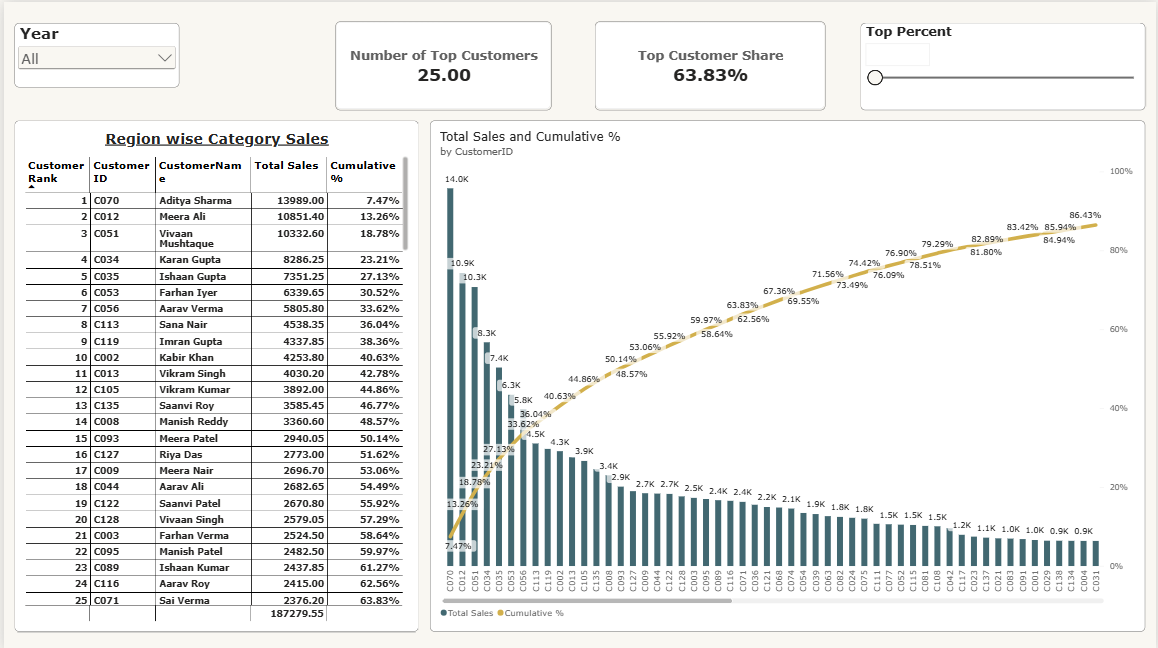

The page's visual inventory and layout, read from the dashboard file:
{"tool":"powerbi","page":{"name":"TOP 20% CUSTOMERS (Pareto Analysis)","canvas":[1920,1080],"ordinal":5},"visuals":[{"type":"slicer","fields":{"Values":["Date Table.Year"]},"box":[16.7,35.8,274.4,107.4],"z":0},{"type":"slicer","fields":{"Values":["Top Percent.Top Percent"]},"box":[1426.8,35.8,474.8,145.5],"z":1000},{"type":"cardVisual","fields":{"Data":["Measure Pareto.Top Customer Share"]},"box":[985.4,33.4,384.1,147.9],"z":2000},{"type":"cardVisual","fields":{"Data":["Measure Pareto.Number of Top Customers"]},"box":[553.5,33.4,360.3,147.9],"z":3000},{"type":"tableEx","title":"Region wise Category Sales","fields":{"Values":["Measure Pareto.Customer Rank","Customers.CustomerID","Customers.CustomerName","Measure Overview.Total Sales","Measure Pareto.Cumulative %"]},"box":[17.1,198.3,673.2,851.9],"z":4000},{"type":"lineStackedColumnComboChart","fields":{"Category":["Customers.CustomerID"],"Y":["Measure Overview.Total Sales"],"Y2":["Measure Pareto.Cumulative %"]},"box":[709.9,198.3,1192.2,851.9],"z":5000}]}

Visuals, with their boxes in screenshot pixels (x1, y1, x2, y2), scaled from the page's 1920x1080 canvas onto the 1158x648 screenshot:
slicer - Date Table.Year: <bbox>10, 21, 176, 86</bbox>
slicer - Top Percent.Top Percent: <bbox>861, 21, 1147, 109</bbox>
cardVisual - Measure Pareto.Top Customer Share: <bbox>594, 20, 826, 109</bbox>
cardVisual - Measure Pareto.Number of Top Customers: <bbox>334, 20, 551, 109</bbox>
"Region wise Category Sales" tableEx: <bbox>10, 119, 416, 630</bbox>
lineStackedColumnComboChart - Customers.CustomerID x Measure Overview.Total Sales: <bbox>428, 119, 1147, 630</bbox>
